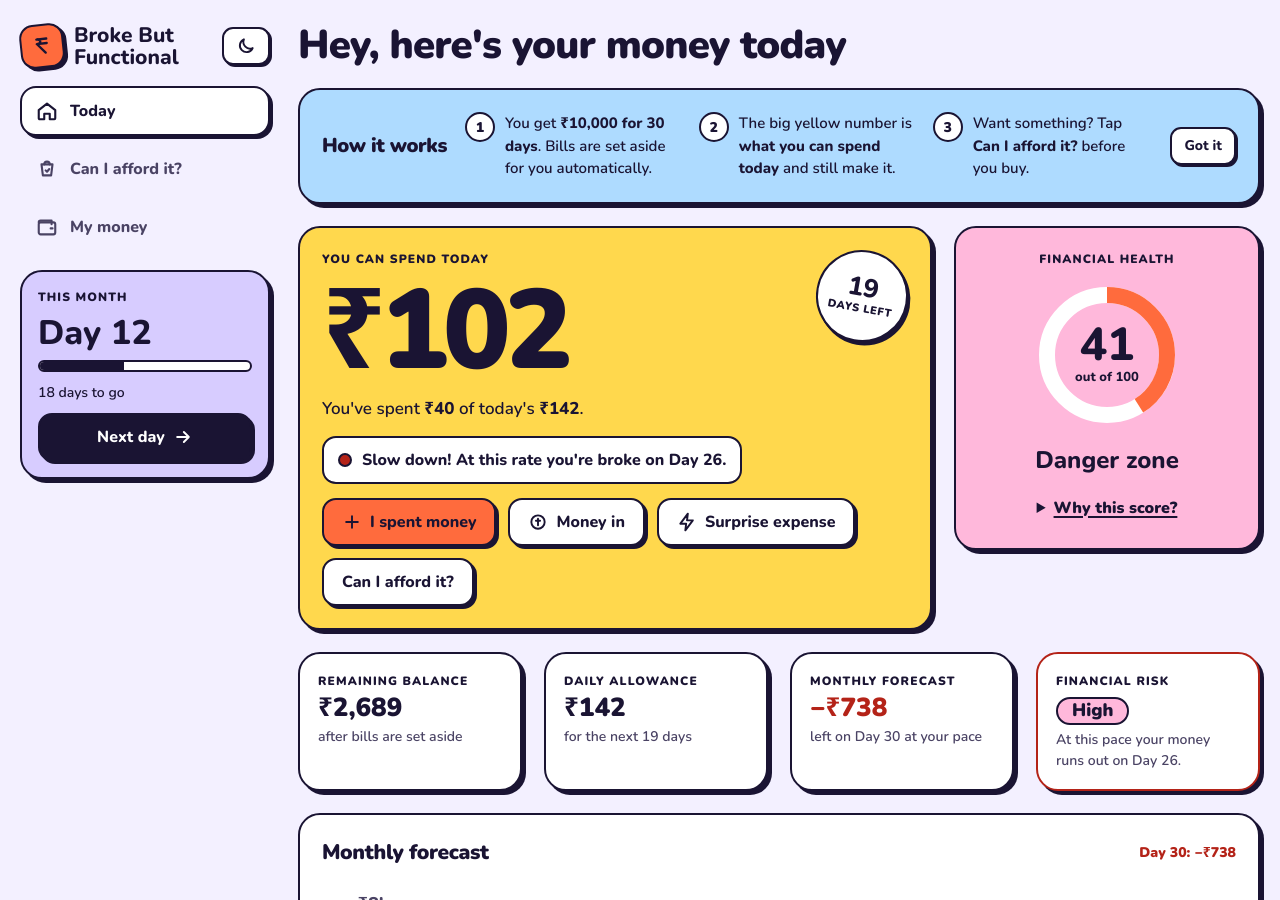
Test: Today › closes the dialog with Escape and returns focus to the button that opened it
This screenshot has width=1280, height=900.
Step 1. Click the button "I spent money" → (409, 522), box [322,498,496,546]
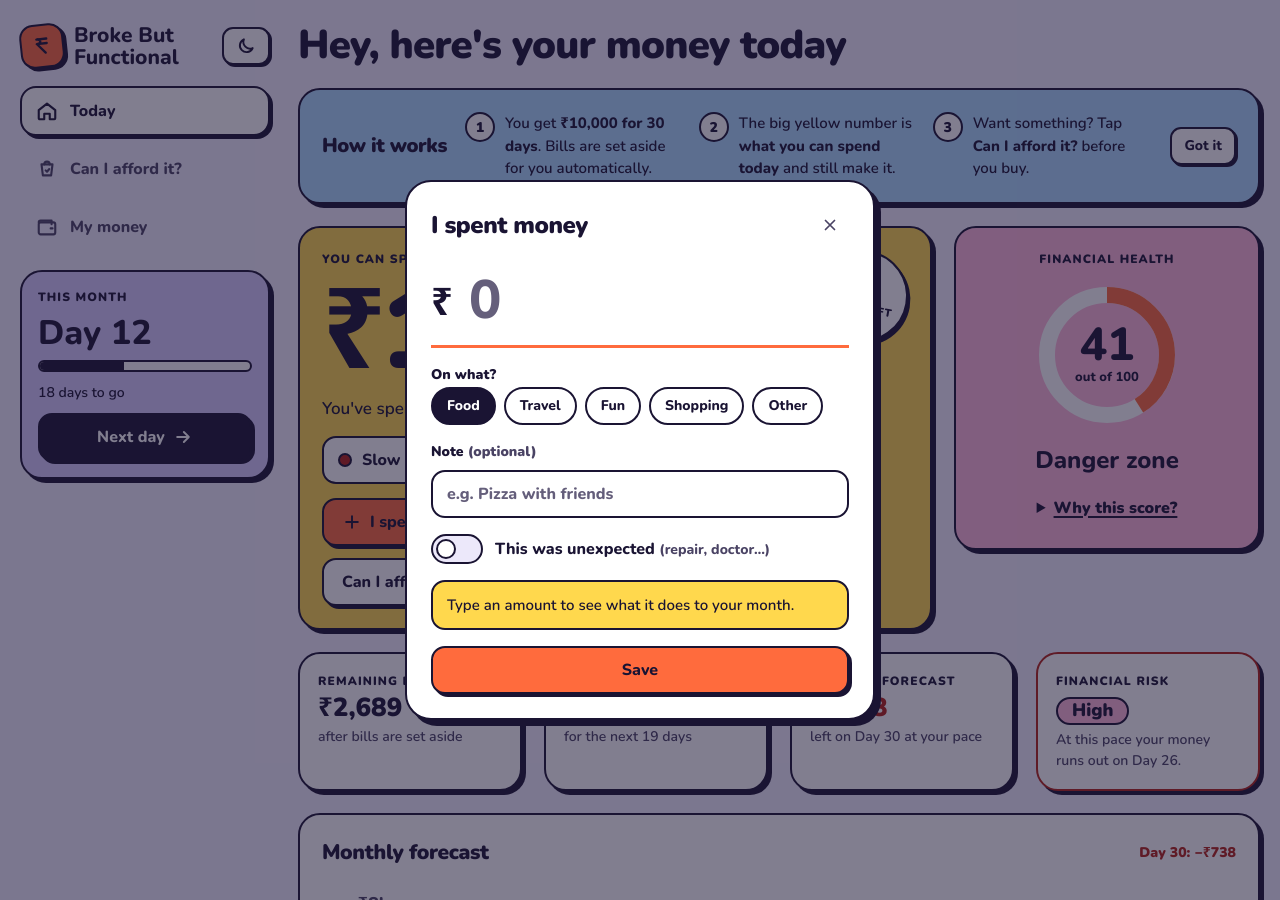
Check: the dialog is shown, box [405,180,875,720]
Step 2. Press Escape
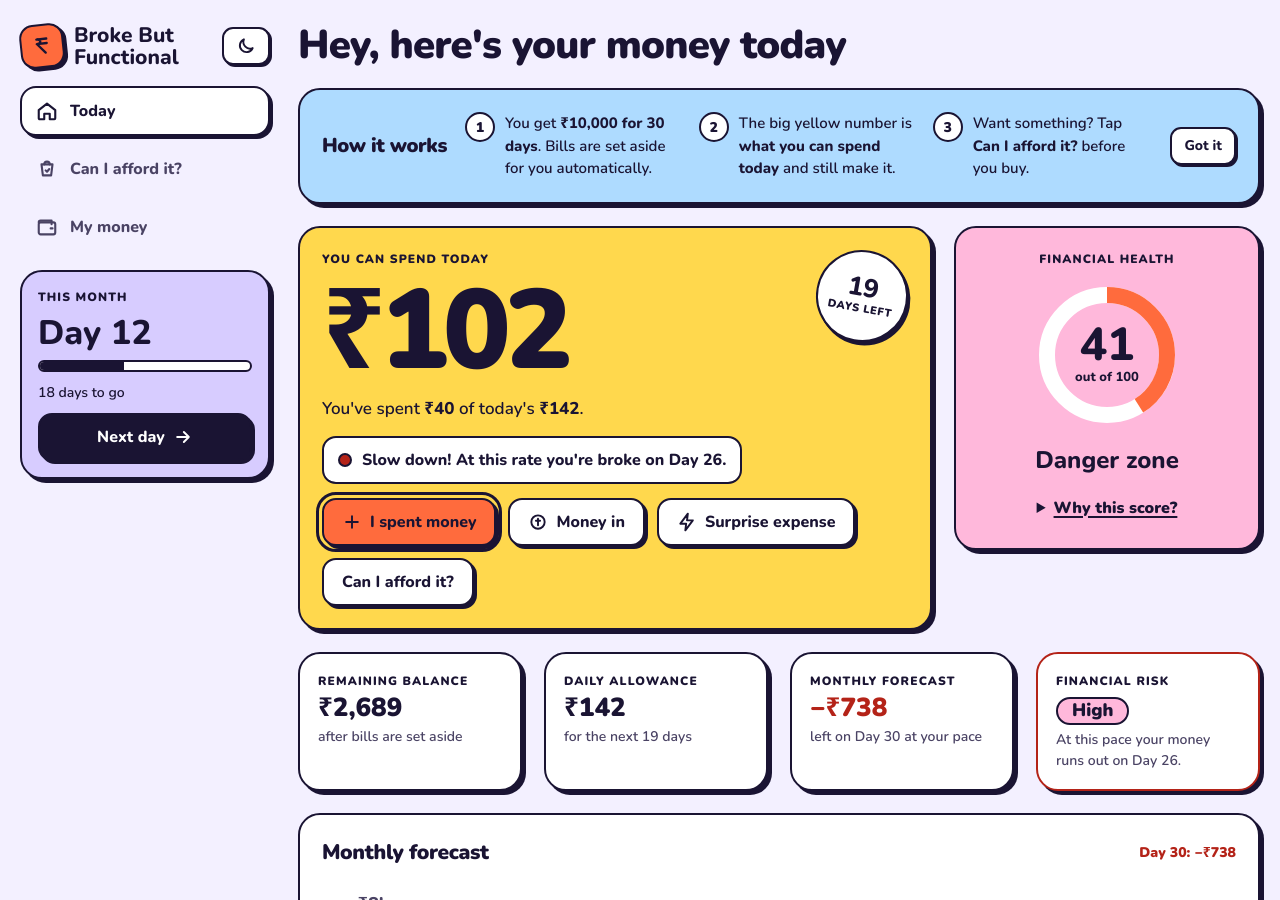
Check: the dialog is gone
